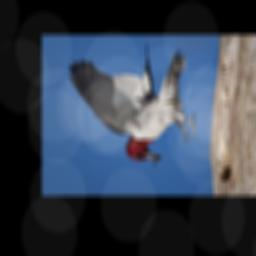Woodpecker: (68, 44, 197, 165)
